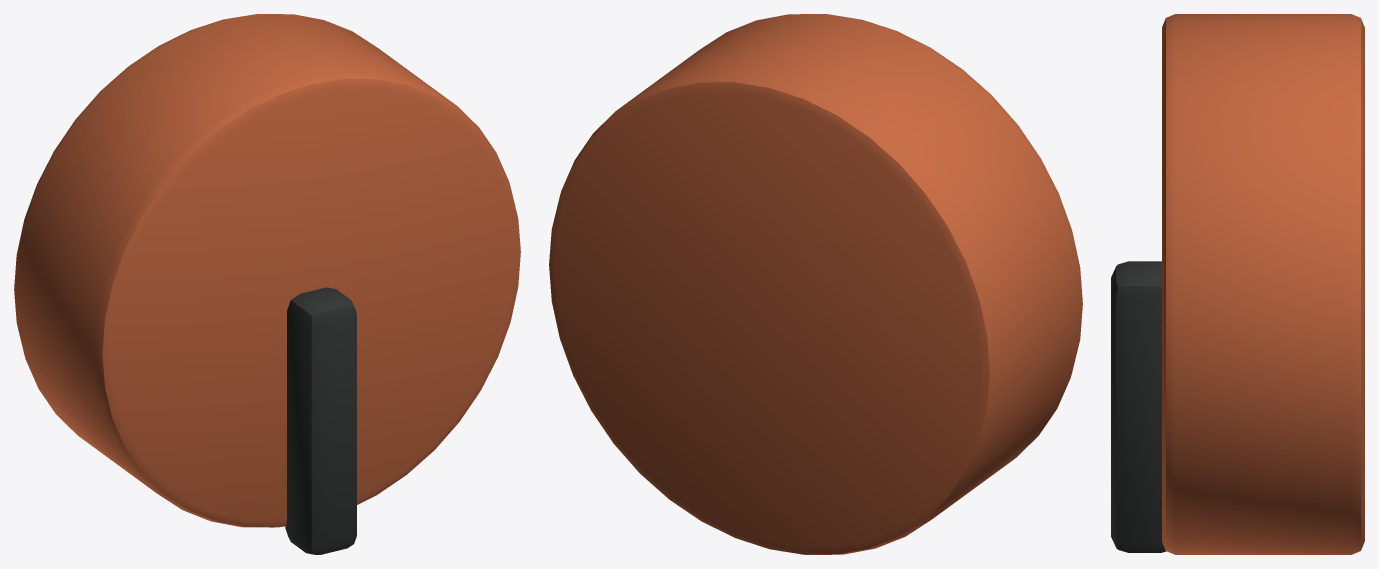
File: paddle_mixer_speed_dial.glb
The picture shows the model from 3 angles, left to right: view 1: azimuth 30°, elevation 25°; view 2: azimuth 150°, elevation 25°; view 3: azimuth 270°, elevation 25°; orthographic projection. The views are drawn at different scales.
Visible parts, largest first — view 1: paddle_mixer_speed_dial; view 2: paddle_mixer_speed_dial; view 3: paddle_mixer_speed_dial.
Part boxes in pixels (x1,y1,x2,y2): paddle_mixer_speed_dial: [14, 14, 520, 554]; paddle_mixer_speed_dial: [549, 14, 1082, 554]; paddle_mixer_speed_dial: [1111, 14, 1364, 554].
Bounding box in the file's own units: 0.032 × 0.033 × 0.015.
